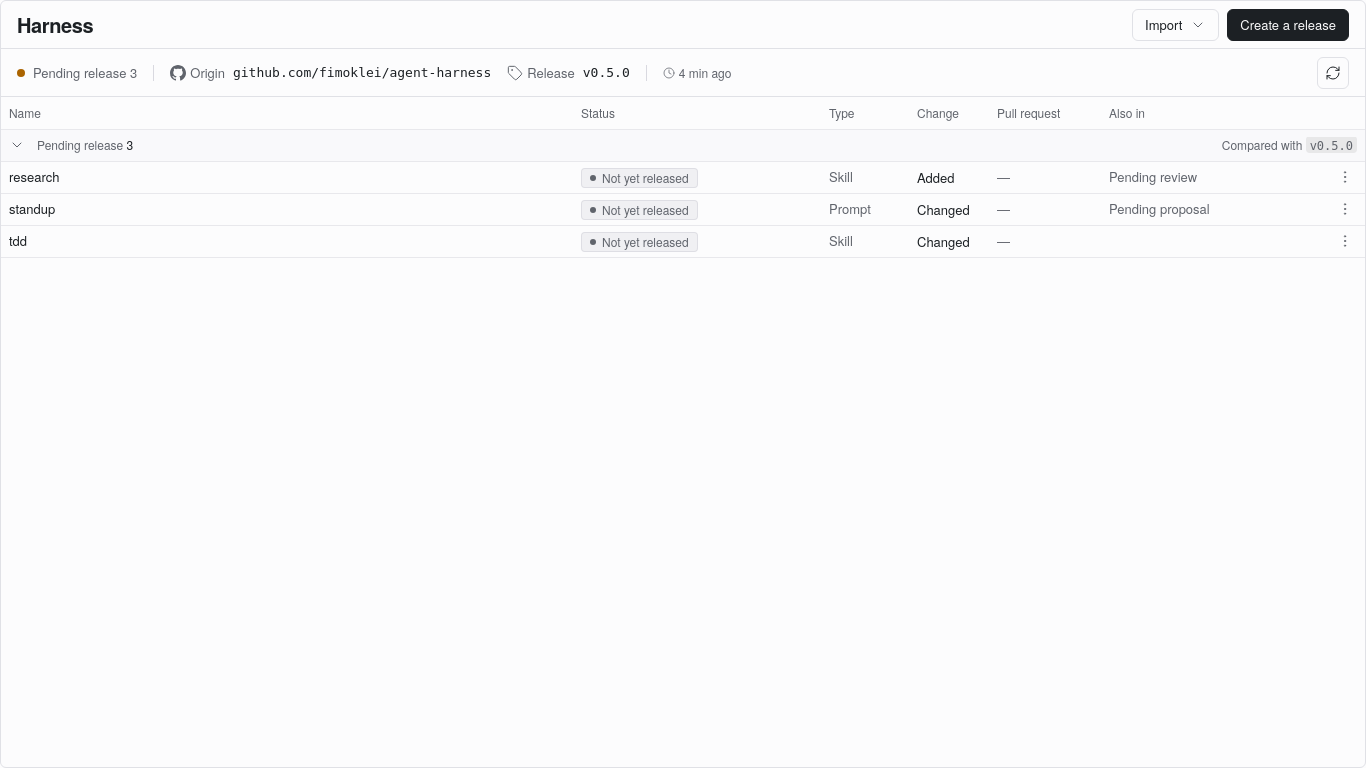
Harness release › names every Pending release item still in flight, and leaves Publish release enabled
This screenshot has width=1366, height=768.
What coordinates should you click on to do the following:
click the button "Create a release"
I would click on:
 (1288, 24)
Its box is [1227,8,1349,40].
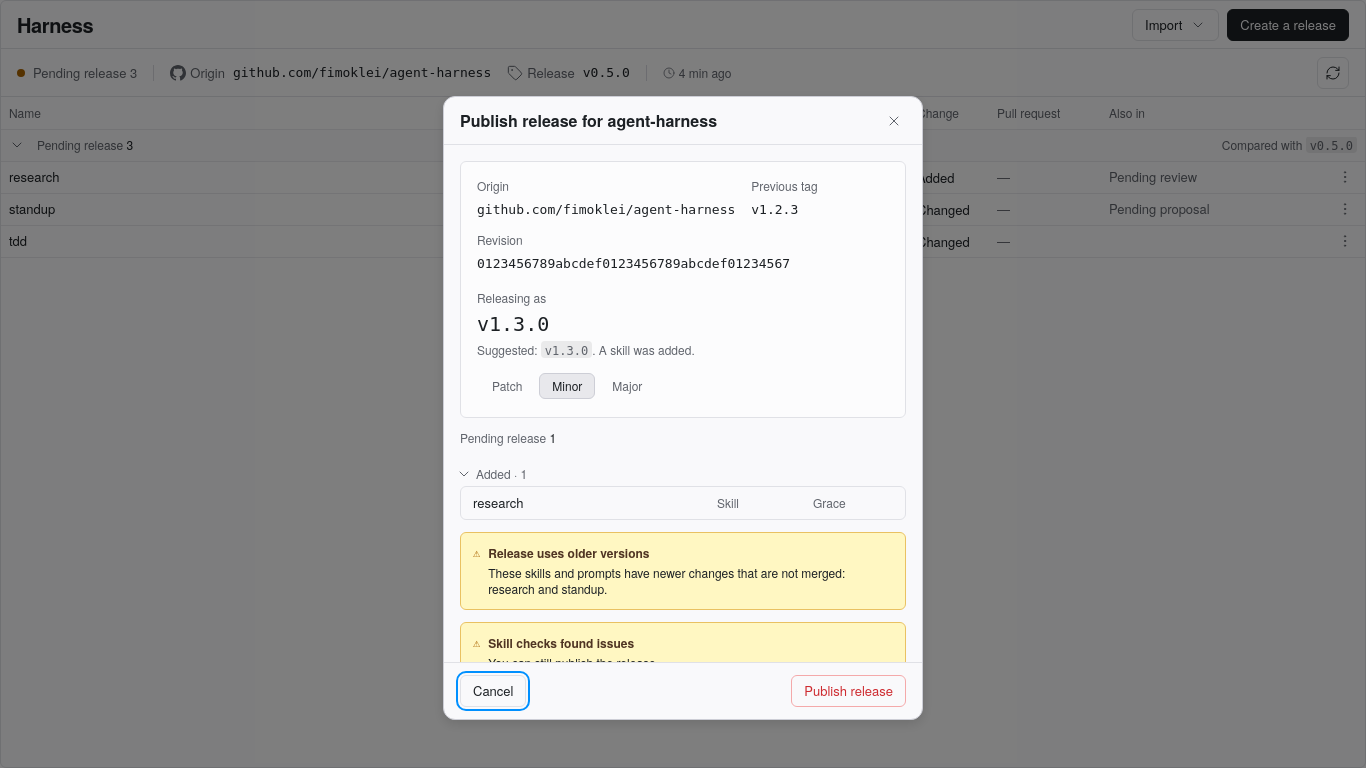
Now the text "Releasing as" is shown, box [477,289,546,306]
Now the button "Publish release" is enabled, box [791,675,906,707]
